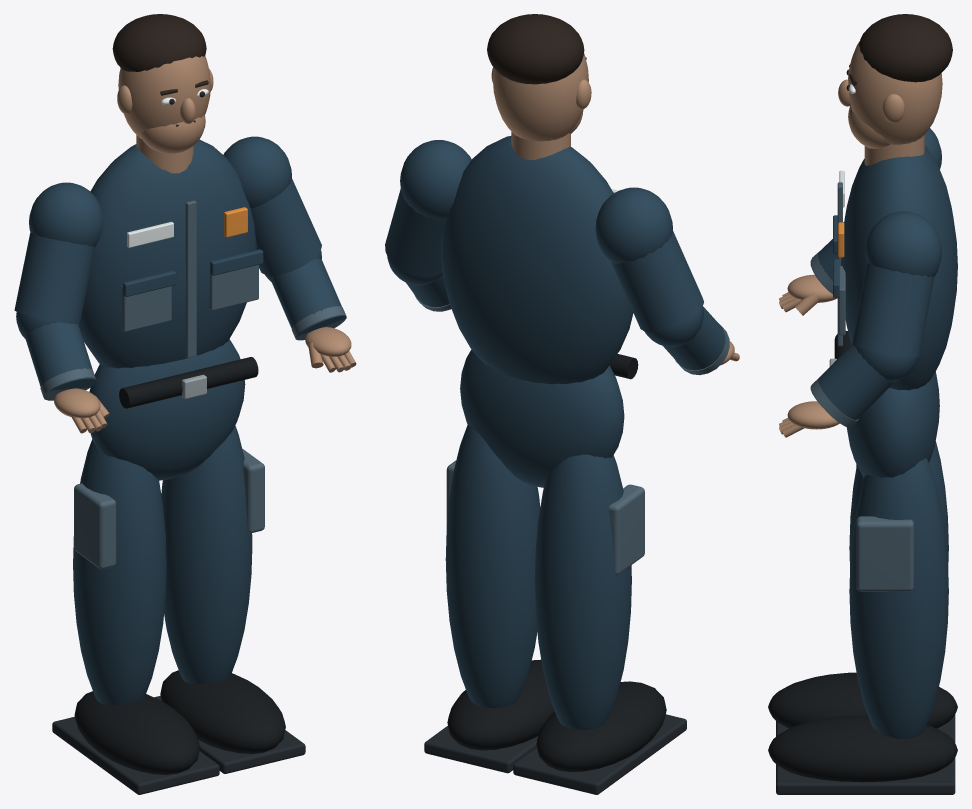
File: StationWorkUniform.fbx
3 renders of one model, left to right at view 1: azimuth 30°, elevation 25°; view 2: azimuth 150°, elevation 25°; view 3: azimuth 270°, elevation 25°, orthographic. The views are drawn at different scales.
Visible parts, largest first — view 1: Hips__LS_NavyCloth, Chest__LS_NavyCloth, Hips__LS_Rubber, LeftUpper__LS_NavyCloth, Head__LS_Skin, RightUpper__LS_NavyCloth, Chest__LS_ClothSeam, Hips__LS_Graphite, Hips__LS_ClothSeam, Head__LS_Hair, LeftFore__LS_NavyCloth, RightFore__LS_NavyCloth (+6 smaller); view 2: Hips__LS_NavyCloth, Chest__LS_NavyCloth, Hips__LS_Rubber, LeftUpper__LS_NavyCloth, RightUpper__LS_NavyCloth, Head__LS_Skin, Hips__LS_Graphite, Head__LS_Hair, LeftFore__LS_NavyCloth, Hips__LS_ClothSeam, RightFore__LS_NavyCloth; view 3: Hips__LS_NavyCloth, Hips__LS_Rubber, Chest__LS_NavyCloth, RightUpper__LS_NavyCloth, Head__LS_Skin, Head__LS_Hair, Hips__LS_ClothSeam, RightFore__LS_NavyCloth, Hips__LS_Graphite, LeftHand__LS_Skin, RightHand__LS_Skin, Chest__LS_ClothSeam (+4 smaller).
Boxes of the visible parts, x1,y1,x2,y2 form: Hips__LS_NavyCloth: (73,339,252,704); Chest__LS_NavyCloth: (78,139,263,368); Hips__LS_Rubber: (74,357,285,774); LeftUpper__LS_NavyCloth: (14,182,102,324); Head__LS_Skin: (117,56,213,173); RightUpper__LS_NavyCloth: (223,136,321,275); Chest__LS_ClothSeam: (121,200,258,358); Hips__LS_Graphite: (52,696,305,794); Hips__LS_ClothSeam: (74,449,264,569); Head__LS_Hair: (112,14,208,126); LeftFore__LS_NavyCloth: (16,312,96,390); RightFore__LS_NavyCloth: (265,250,346,336); Hips__LS_NavyCloth: (445,349,631,729); Chest__LS_NavyCloth: (440,136,633,384); Hips__LS_Rubber: (447,354,666,772); LeftUpper__LS_NavyCloth: (595,187,703,332); RightUpper__LS_NavyCloth: (385,140,471,276); Head__LS_Skin: (491,53,591,160); Hips__LS_Graphite: (424,714,686,794); Head__LS_Hair: (487,14,586,84); LeftFore__LS_NavyCloth: (644,306,725,370); Hips__LS_ClothSeam: (446,460,644,574); RightFore__LS_NavyCloth: (387,255,449,306); Hips__LS_NavyCloth: (846,371,948,738); Hips__LS_Rubber: (768,331,957,782); Chest__LS_NavyCloth: (833,145,957,390); RightUpper__LS_NavyCloth: (852,211,941,357); Head__LS_Skin: (838,41,942,165); Head__LS_Hair: (846,14,952,113); Hips__LS_ClothSeam: (856,464,913,591); RightFore__LS_NavyCloth: (810,344,917,420); Hips__LS_Graphite: (776,714,955,794); LeftHand__LS_Skin: (779,274,837,315); RightHand__LS_Skin: (779,401,839,437); Chest__LS_ClothSeam: (837,182,845,346).
Bounding box in the file's own units: 78.98 × 180 × 42.
